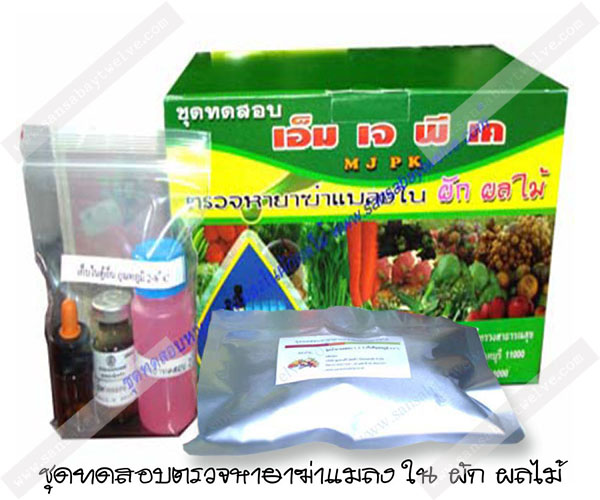Insecticide: (125, 230, 199, 448), (83, 287, 143, 432), (43, 294, 96, 437)
